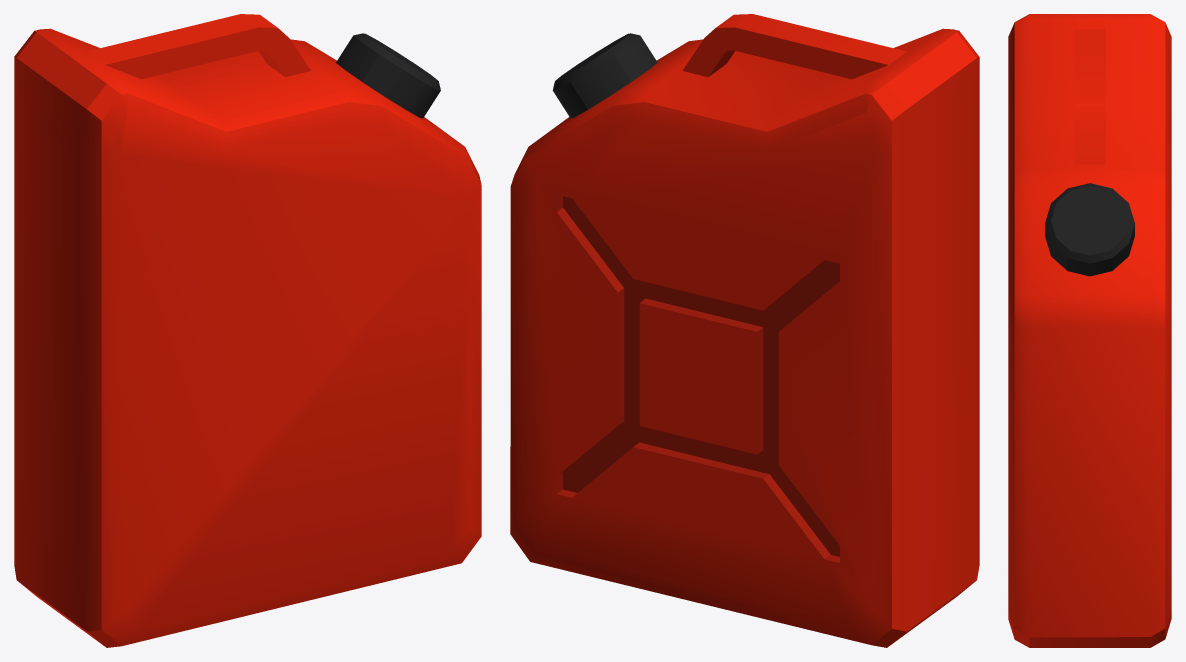
Rendered from benzin.fbx.
3 views of the same model, side by side, from view 1: azimuth 30°, elevation 25°; view 2: azimuth 150°, elevation 25°; view 3: azimuth 270°, elevation 25° (orthographic). The views are drawn at different scales.
Parts seen in each view (by area): view 1: benzin; view 2: benzin; view 3: benzin.
Boxes of the visible parts, left/top/right/bottom form: benzin: left=14, top=14, right=481, bottom=647; benzin: left=510, top=14, right=979, bottom=647; benzin: left=1008, top=14, right=1171, bottom=647.
Bounding box in the file's own units: 71.67 × 98.47 × 29.97.
